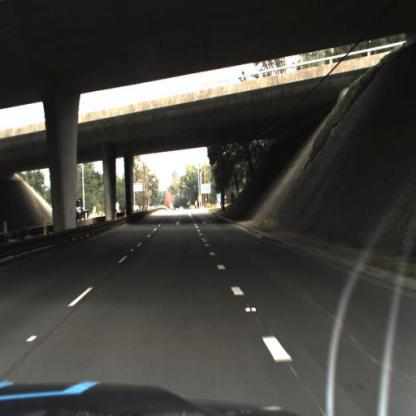car: (73, 195, 96, 224)
